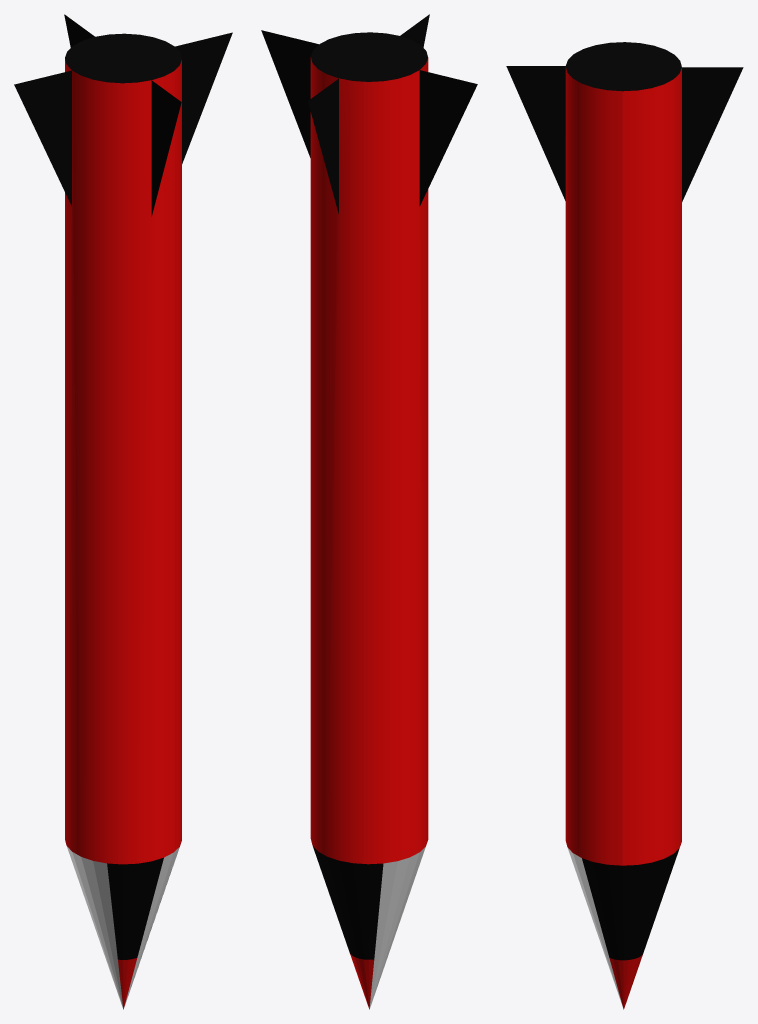
Rendered from missile.FBX.
3 renders of one model, left to right at view 1: azimuth 30°, elevation 25°; view 2: azimuth 150°, elevation 25°; view 3: azimuth 270°, elevation 25°, orthographic.
Visible parts, largest first — view 1: Layer0_002; view 2: Layer0_002; view 3: Layer0_002.
Part boxes in pixels (<box>): Layer0_002: <box>14,14,232,1009</box>; Layer0_002: <box>261,14,477,1009</box>; Layer0_002: <box>506,42,743,1009</box>.
Size of the model in its own units: 52.49 by 219 by 49.99.
